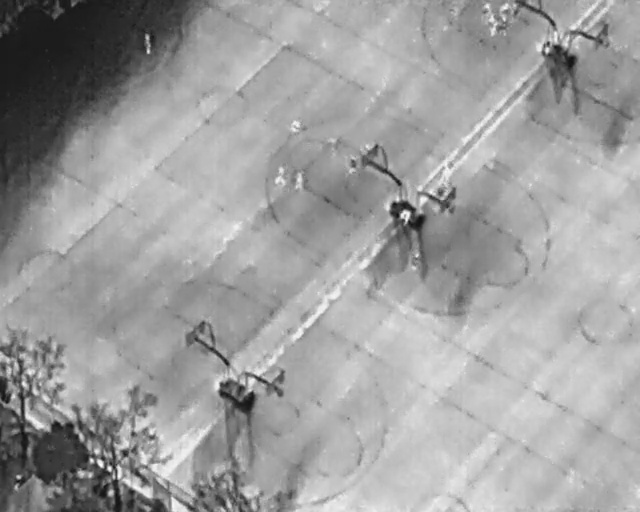Person: (395, 206, 414, 229), (495, 1, 513, 22), (272, 165, 287, 188), (407, 251, 422, 274), (485, 15, 500, 38), (287, 117, 303, 136), (293, 169, 304, 191), (437, 183, 450, 200), (509, 1, 522, 18), (348, 155, 358, 176), (498, 17, 508, 38), (143, 34, 152, 56), (480, 4, 492, 19), (328, 137, 338, 154)
